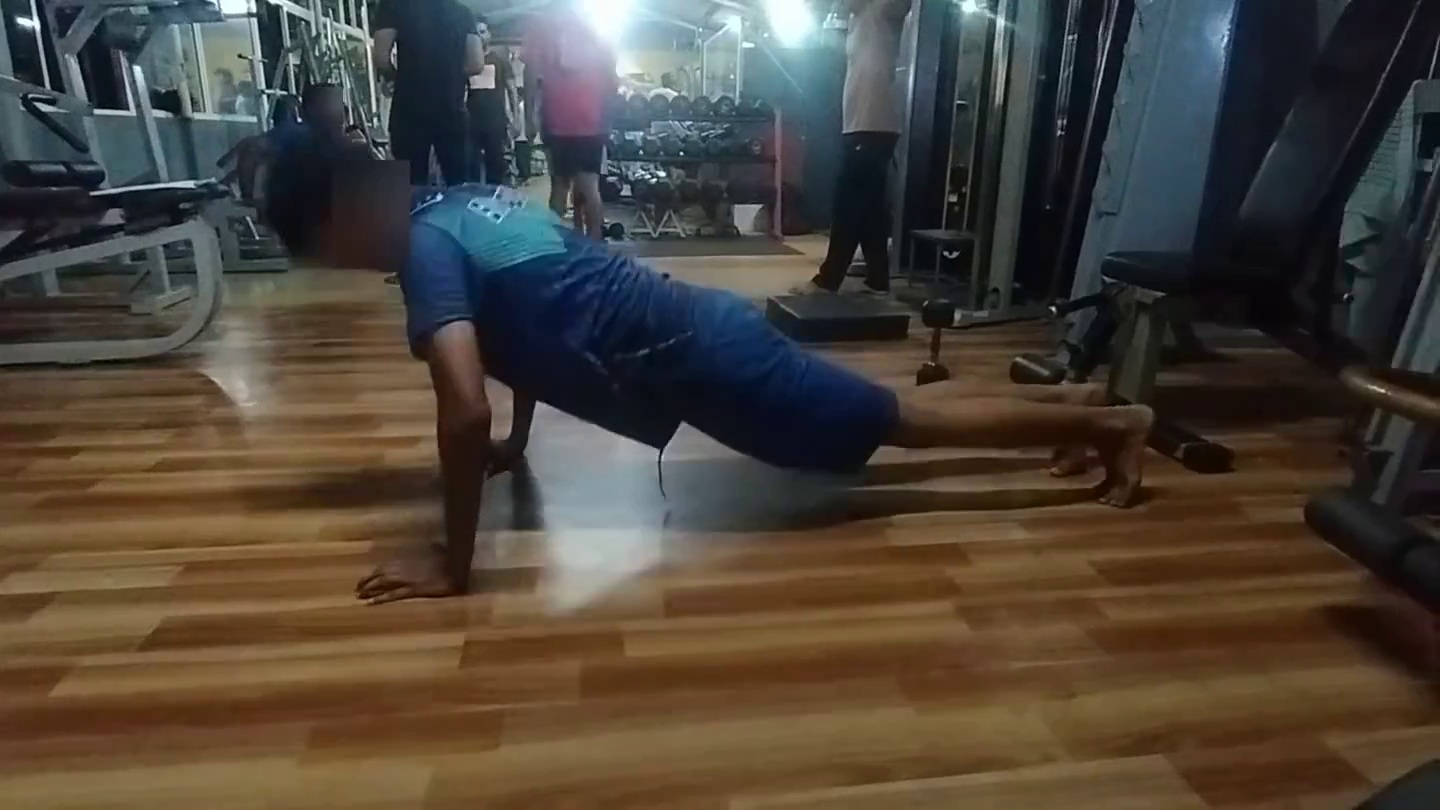push_up_incorrect: (247, 127, 1165, 652)
